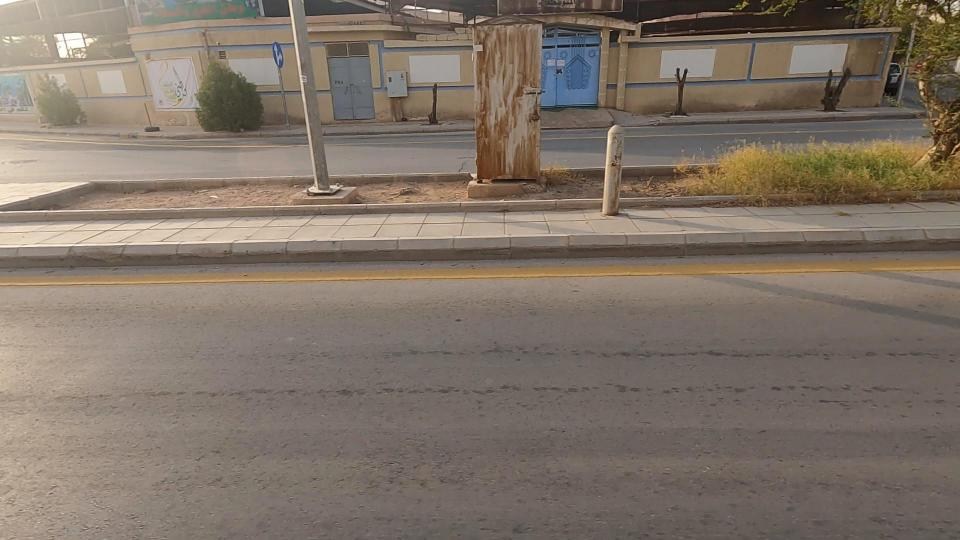BAD_BILLBOARD: (81, 25, 269, 158)
